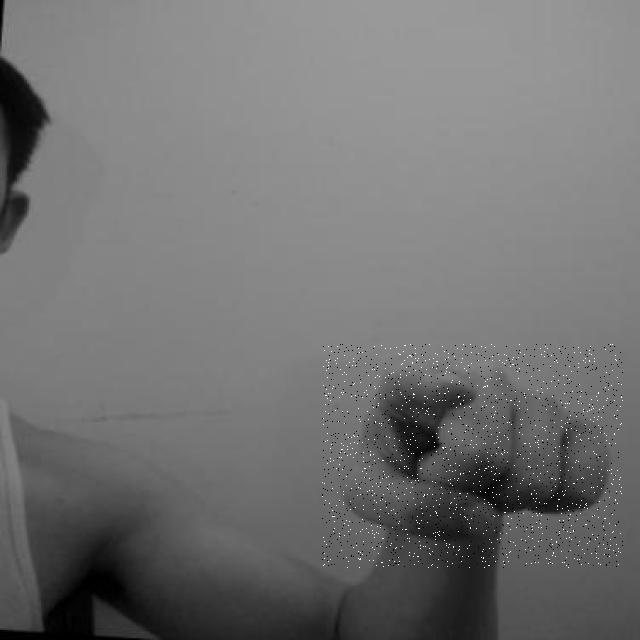Z: (322, 344, 623, 568)
